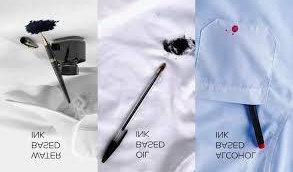ink: (25, 18, 57, 35), (164, 38, 192, 55), (231, 25, 237, 32)
